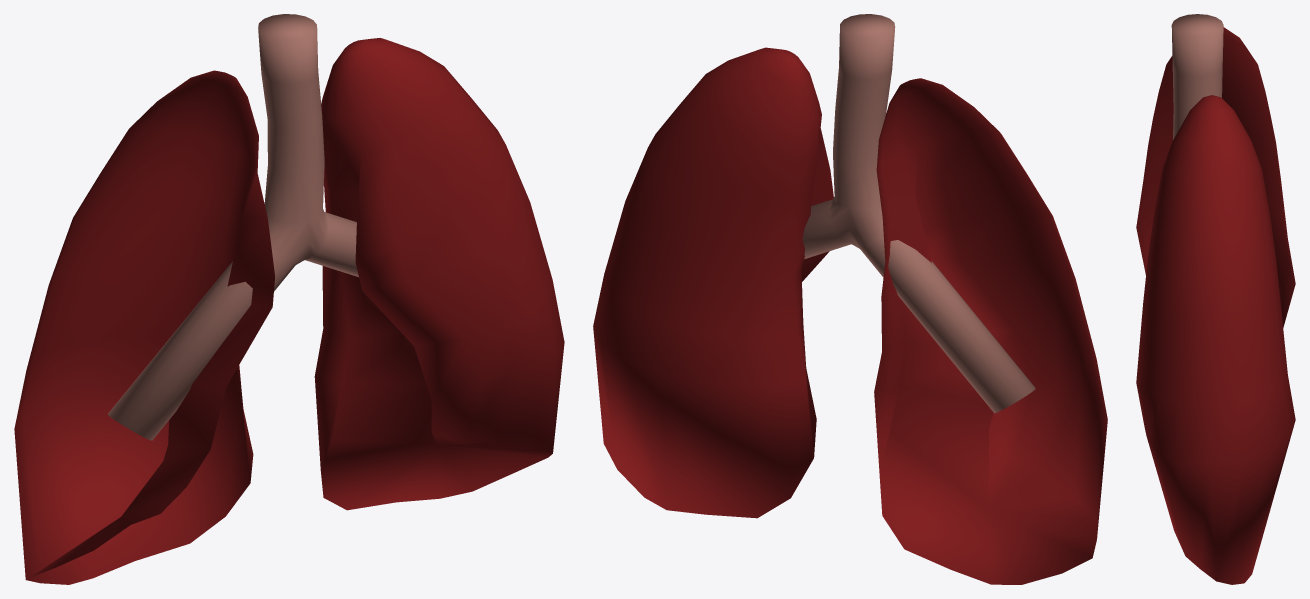
The model's file is lung.obj.
3 renders of one model, left to right at view 1: azimuth 30°, elevation 25°; view 2: azimuth 150°, elevation 25°; view 3: azimuth 270°, elevation 25°, orthographic. The views are drawn at different scales.
Parts seen in each view (by area): view 1: Lung_L_Sphere.001, Lung_R_Sphere.000, Trachea_Cylinder; view 2: Lung_L_Sphere.001, Lung_R_Sphere.000, Trachea_Cylinder; view 3: Lung_L_Sphere.001, Lung_R_Sphere.000, Trachea_Cylinder.
Part boxes in pixels (x1,y1,x2,y2): Lung_L_Sphere.001: [314, 38, 564, 510]; Lung_R_Sphere.000: [14, 70, 274, 584]; Trachea_Cylinder: [108, 14, 358, 440]; Lung_L_Sphere.001: [593, 47, 833, 518]; Lung_R_Sphere.000: [874, 78, 1107, 584]; Trachea_Cylinder: [802, 14, 1035, 413]; Lung_L_Sphere.001: [1136, 95, 1295, 584]; Lung_R_Sphere.000: [1136, 27, 1295, 327]; Trachea_Cylinder: [1171, 14, 1223, 139].
Size of the model in its own units: 4.83 by 4.7 by 1.44.
